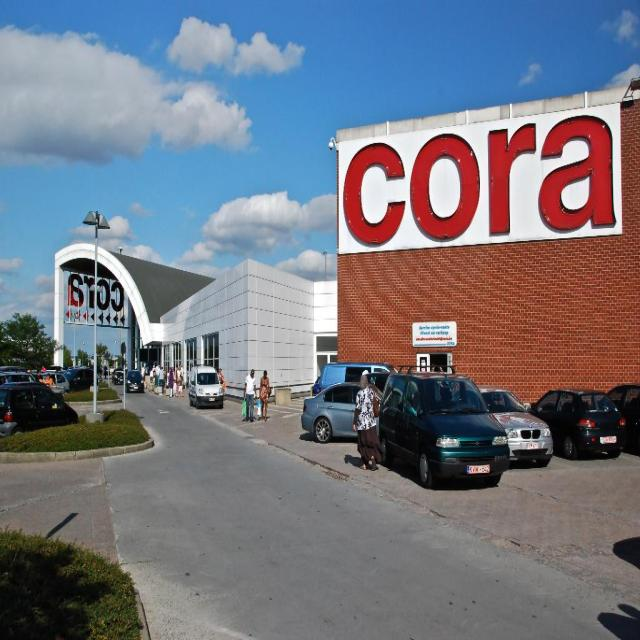car: (374, 359, 507, 488), (124, 368, 144, 396), (109, 366, 124, 381), (103, 364, 108, 374)
